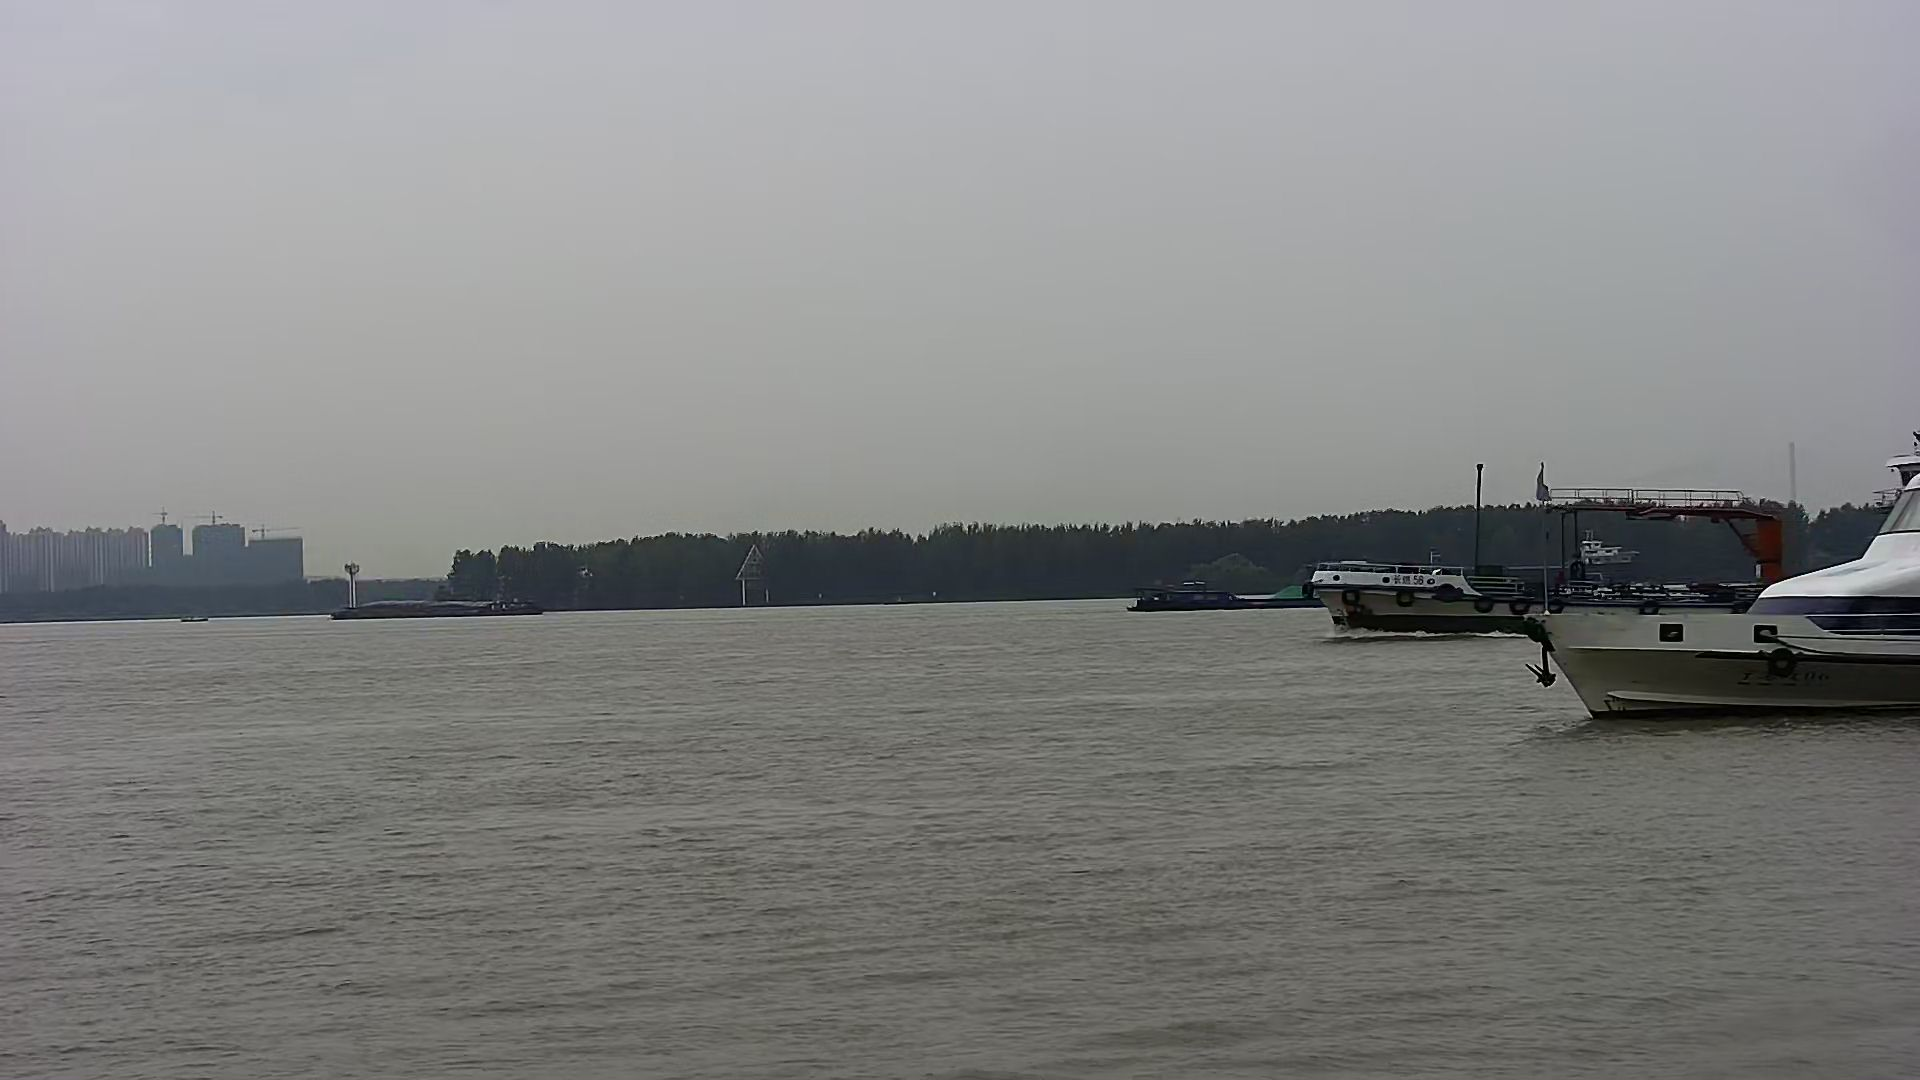ship: (1524, 433, 1920, 720), (1307, 542, 1809, 640), (334, 563, 549, 620), (1133, 578, 1317, 611)
